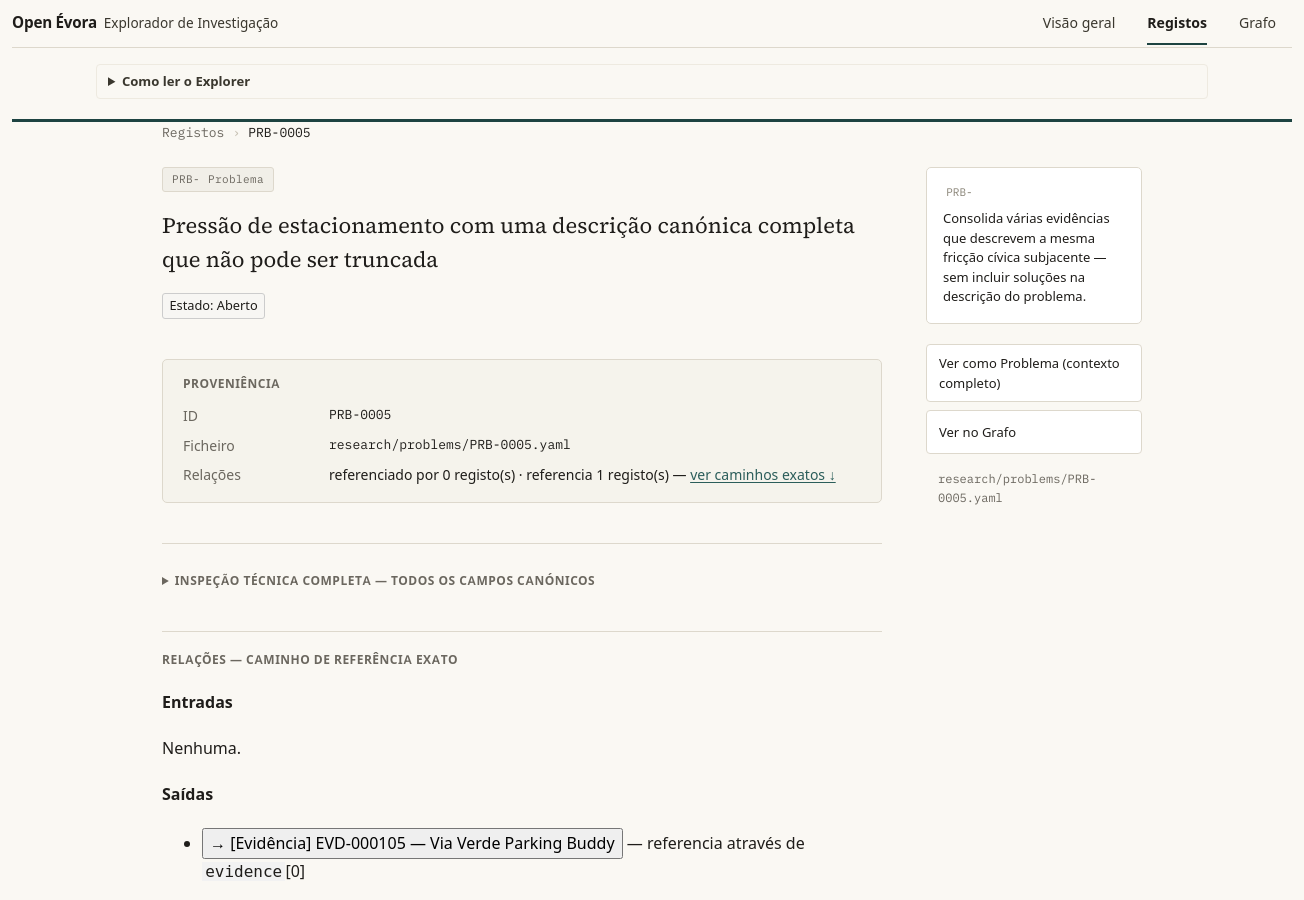
Scenario: Explorer — URL-addressable state › a URL with view/id/query/type on initial load restores that state (bookmark/reload)
Expected: the heading "Inspeção técnica completa — todos os campos canónicos" is shown, x1=175 y1=573 x2=595 y2=588
Click the 2nd button "Registos" at (193, 133), box x1=162 y1=123 x2=224 y2=143
(page scrolled)
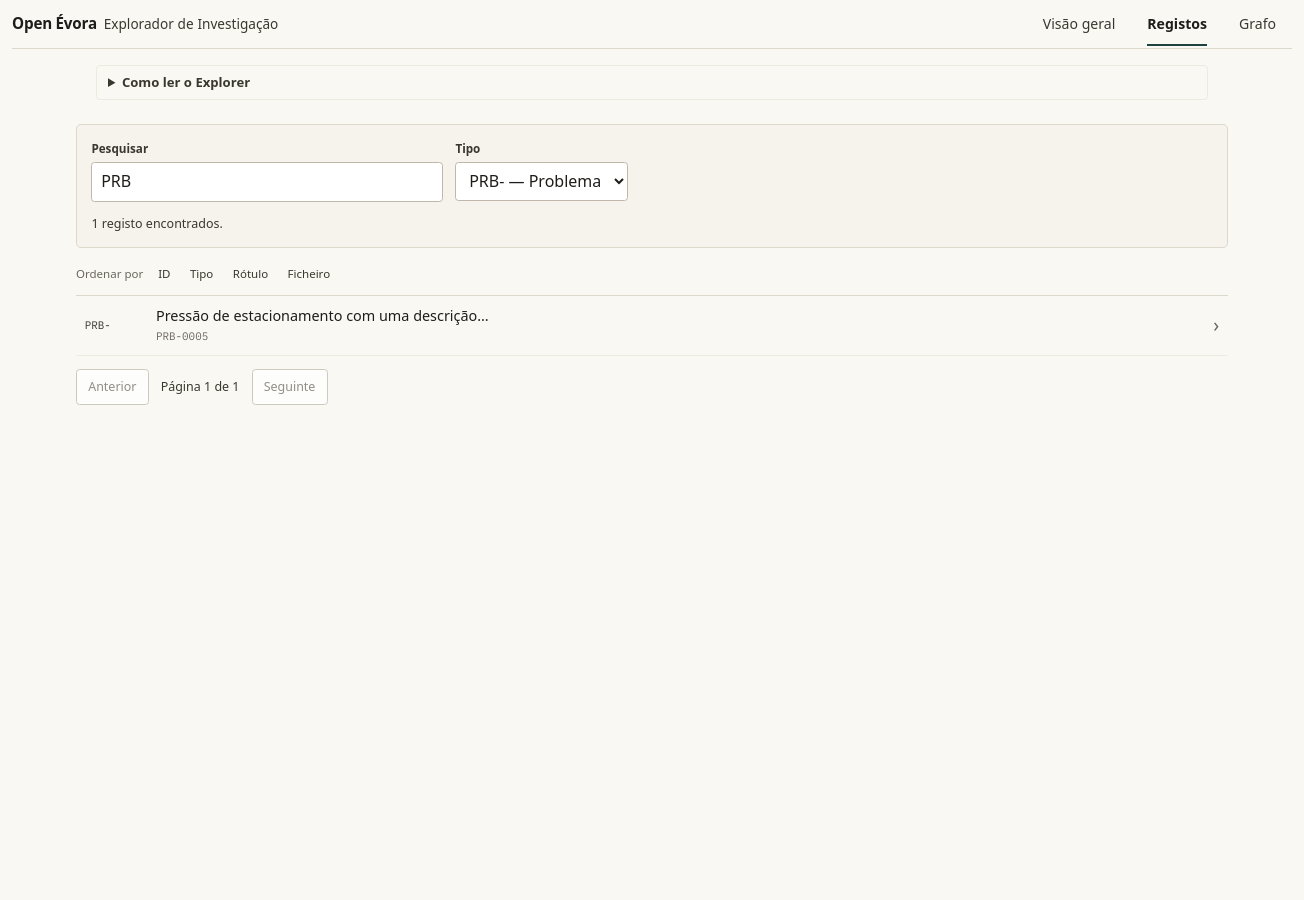
Expected: the search field labelled "Pesquisar" holds "PRB", x1=91 y1=162 x2=443 y2=202
Expected: the dropdown labelled "Tipo" shows "PRB- — Problema", x1=455 y1=162 x2=628 y2=201
